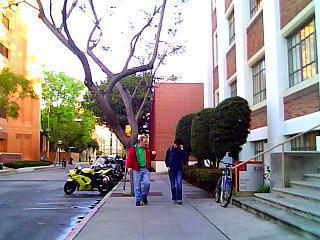Escaleras: (235, 155, 319, 236)
